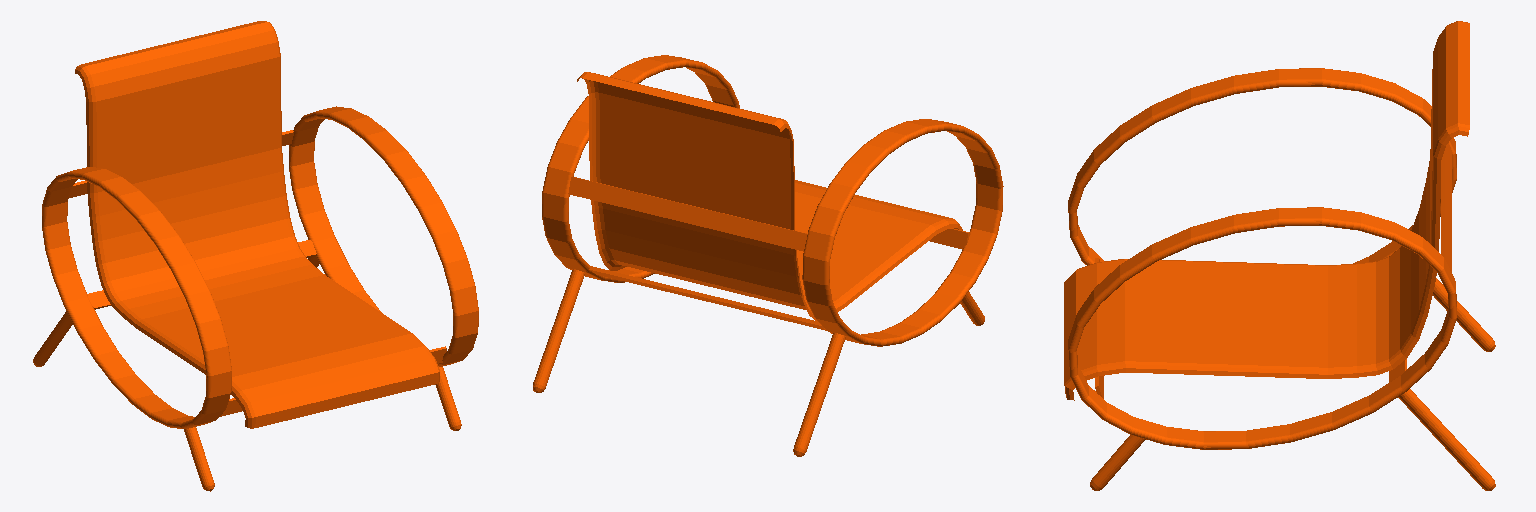
URDF robot description (AccentChair_21fb308ca737174e22f2f93459bd863e):
<?xml version="1.0" ?>
<robot name="AccentChair_21fb308ca737174e22f2f93459bd863e">
   <material name="obj_color">
      <color rgba="1.0 0.423529411765 0.0392156862745 1.0"/>
   </material>
   <link name="top">
      <inertial>
         <origin rpy="0.0002857208659987396 0.0003398591437373081 0.0003772750486506164" xyz="-0.0002884864017345716 0.00138668681024438 -0.001661784054197136"/>
         <mass value="0.3730198075116421"/>
         <inertia ixx="0.0003398591437374588" ixy="-8.578084291240927e-11" ixz="6.252661680105685e-11" iyy="0.0002974566416949757" iyz="-3.060606019164965e-05" izz="0.0003655392729542297"/>
      </inertial>
      <visual>
         <origin rpy="0 0 0" xyz="0 0 0"/>
         <geometry>
            <mesh filename="top_watertight_tiny.stl" scale="1 1 1"/>
         </geometry>
         <material name="obj_color"/>
      </visual>
      <collision>
         <origin rpy="0 0 0" xyz="0 0 0"/>
         <geometry>
            <mesh filename="top_watertight_tiny.obj" scale="1 1 1"/>
         </geometry>
      </collision>
   </link>
   <link name="bottom">
      <inertial>
         <origin rpy="1.633333333199431e-08 1.633333333199431e-08 1.633333333362855e-08" xyz="0.3464080000000008 0.3464080000000008 0.3464080000000008"/>
         <mass value="0.0009800000000000017"/>
         <inertia ixx="1.633333333253906e-08" ixy="5.447480642029219e-19" ixz="5.447480642029219e-19" iyy="1.633333333253906e-08" iyz="5.447480642029219e-19" izz="1.633333333253906e-08"/>
      </inertial>
      <visual>
         <origin rpy="0 0 0" xyz="0 0 0"/>
         <geometry>
            <mesh filename="bottom_watertight_tiny.stl" scale="1 1 1"/>
         </geometry>
         <material name="obj_color"/>
      </visual>
   </link>
   <joint name="rotation" type="revolute">
      <origin xyz="0 0 0"/>
      <axis xyz="0 0 -1"/>
      <parent link="bottom"/>
      <child link="top"/>
      <dynamics damping="1.0" friction="1.0"/>
      <limit effort="0.1" velocity="0.1" lower="0" upper="0.001"/>
   </joint>
</robot>

--- What the picture shows (computed from the rendered views, not written in the file) ---
The picture shows the robot from 3 angles, left to right: view 1: azimuth 30°, elevation 25°; view 2: azimuth 150°, elevation 25°; view 3: azimuth 270°, elevation 25°; orthographic projection.
Robot: AccentChair_21fb308ca737174e22f2f93459bd863e — 2 links, 1 joints (1 revolute); root link bottom; default pose: every joint at zero.
Visible links, largest first — view 1: top; view 2: top; view 3: top.
Boxes of the visible links, left/top/right/bottom form: top: left=33, top=21, right=478, bottom=491; top: left=533, top=55, right=1003, bottom=456; top: left=1064, top=21, right=1495, bottom=490.
Size in the robot's own frame: 0.0736 by 0.0877 by 0.0783 metres.
1 mesh visuals loaded from 2 distinct referenced files (1 binary STL); not drawn: 1 (reference not matched to a file when rendering).
